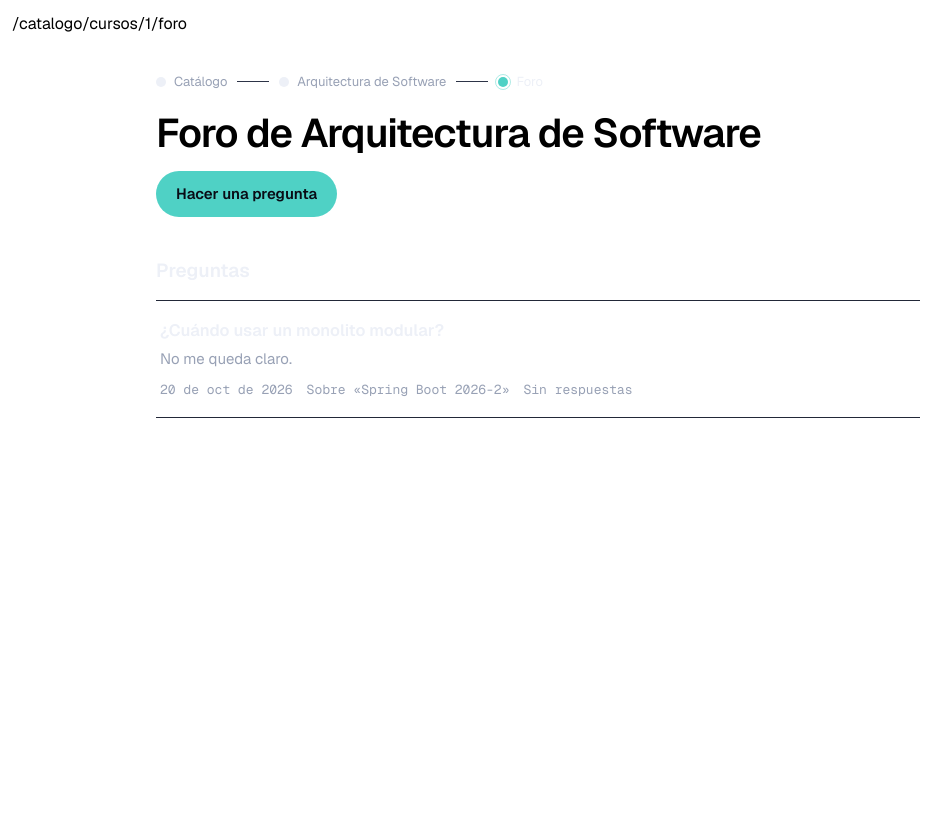
Test: ForumPage › con sesión publica una pregunta y aparece primero en la lista
Click the button "Hacer una pregunta" at coordinates (247, 194), box [156,171,337,217]
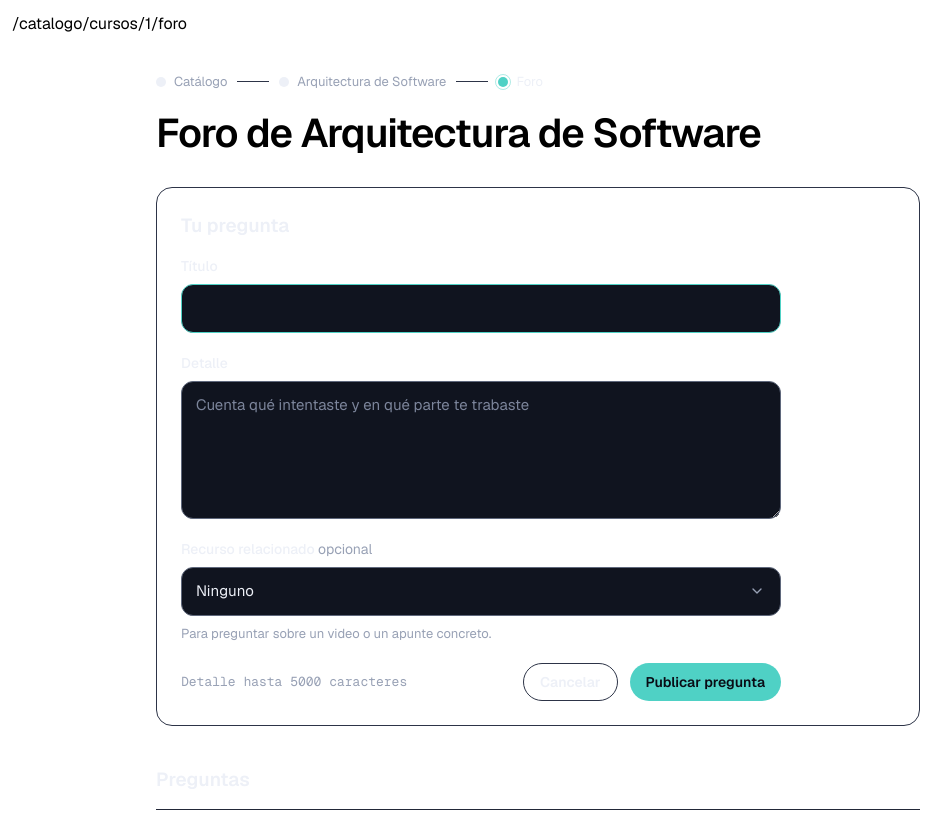
Type "  Otra duda " into the field labelled "Título" at coordinates (481, 308), box [181,284,781,333]
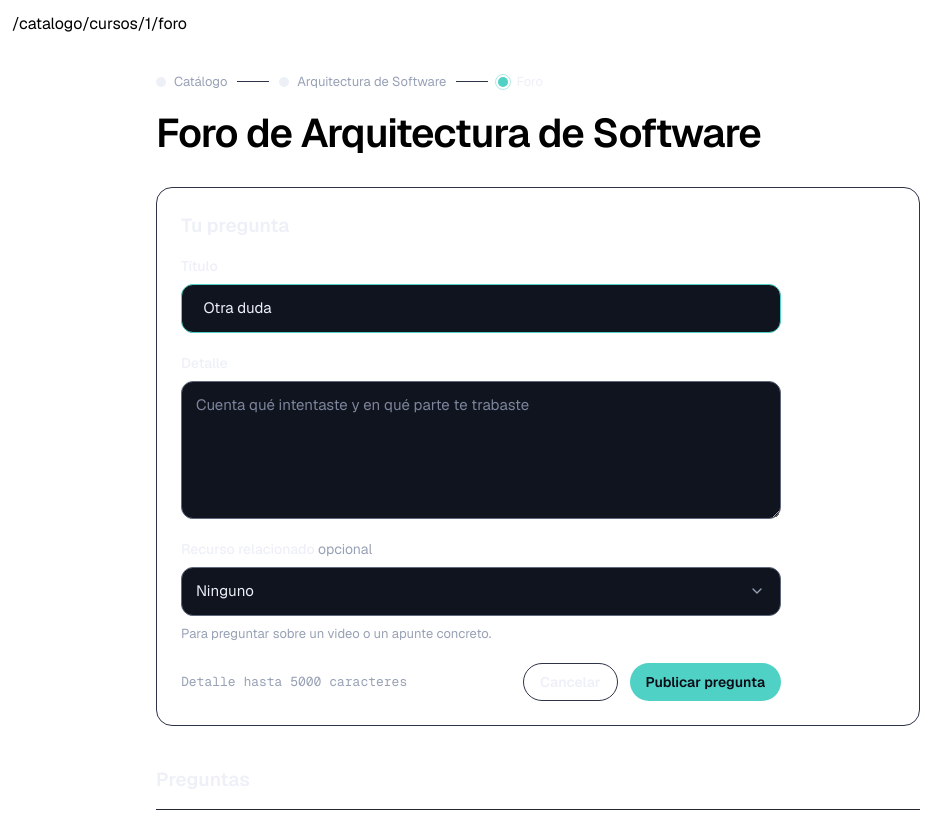
Type "Detalle de la duda" into the text box labelled "Detalle" at coordinates (481, 450), box [181,381,781,519]
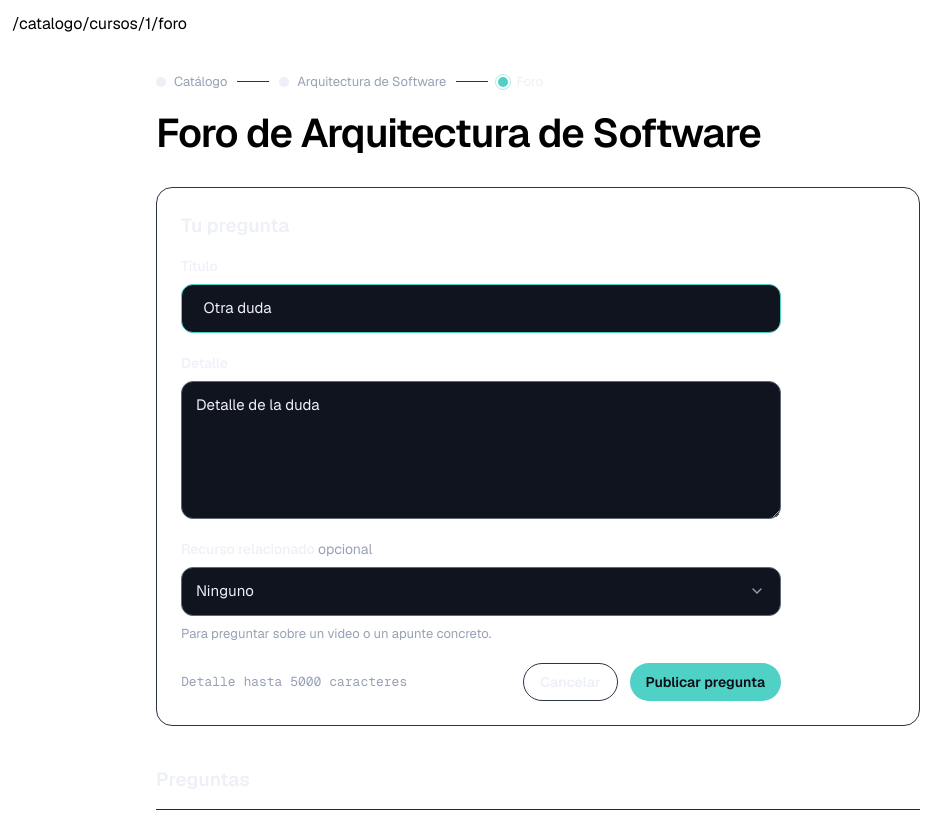
Click the button "Publicar pregunta" at coordinates (705, 682), box [630,663,781,701]
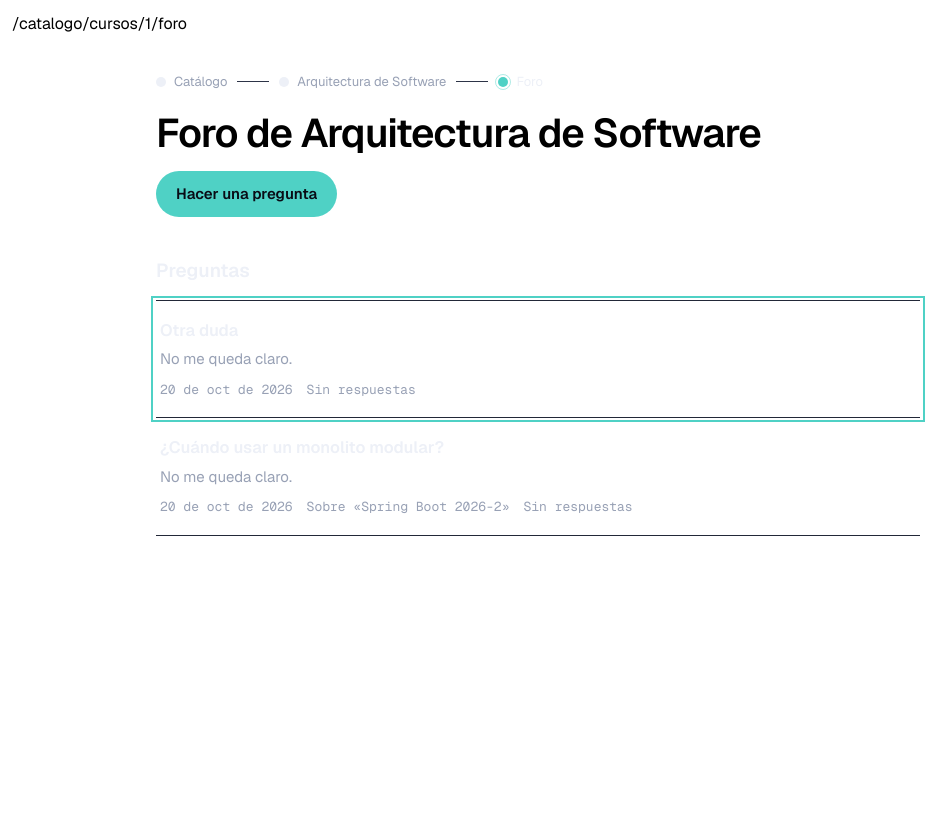
Now the link that starts with "Otra duda" is shown, box [160,319,416,398]
Now the form is gone
